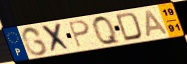A: (145, 9, 170, 38)
D: (115, 11, 144, 43)
G: (20, 26, 49, 57)
P: (67, 20, 92, 50)
Q: (91, 15, 123, 47)
X: (40, 22, 73, 55)
